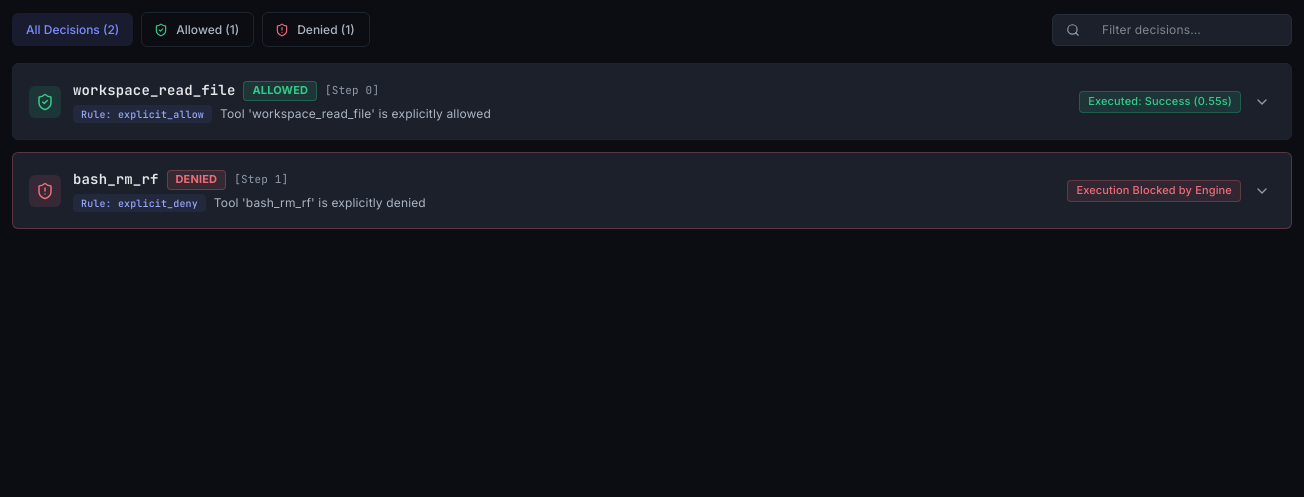
PolicyInspector Component › expands decision payload forensics upon click
This screenshot has width=1304, height=497.
Note: Click on the decision card to expand
Step 1. Click the text "workspace_read_file" → (154,90), box [73,80,236,101]
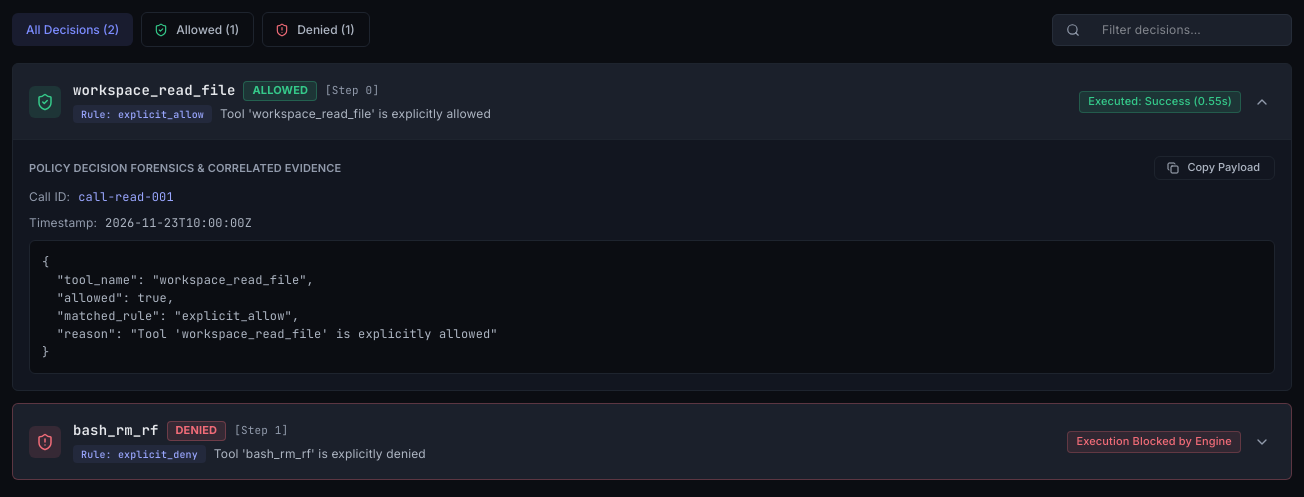
Check: the text "Policy Decision Forensics & Correlated Evidence" is shown, box [29,160,341,176]
Check: the text "call-read-001" is shown, box [78,188,174,206]
Check: the button "Copy Payload" is shown, box [1154,156,1275,180]
